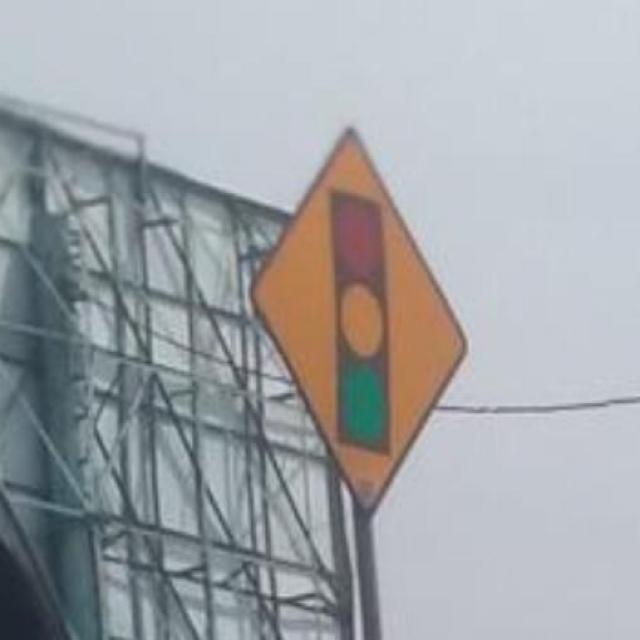traffic sign: (250, 124, 463, 514)
